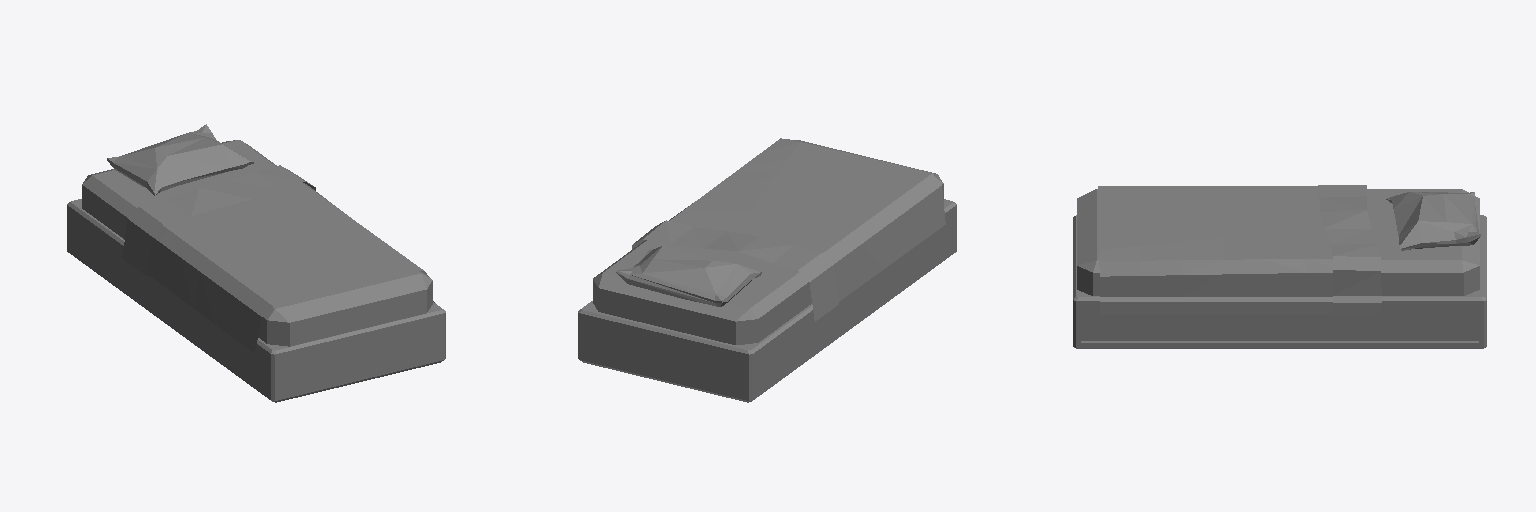
The model's file is Cama2.obj.
The picture shows the model from 3 angles: view 1: azimuth 30°, elevation 25°; view 2: azimuth 150°, elevation 25°; view 3: azimuth 270°, elevation 25°; orthographic projection.
Visible parts, largest first — view 1: bed_001; view 2: bed_001; view 3: bed_001.
Boxes of the visible parts, box(x1,y1,x2,y2) form: bed_001: box(67, 124, 445, 402); bed_001: box(578, 138, 956, 402); bed_001: box(1073, 185, 1486, 348).
Bounding box in the file's own units: 10.39 × 5.8 × 20.61.